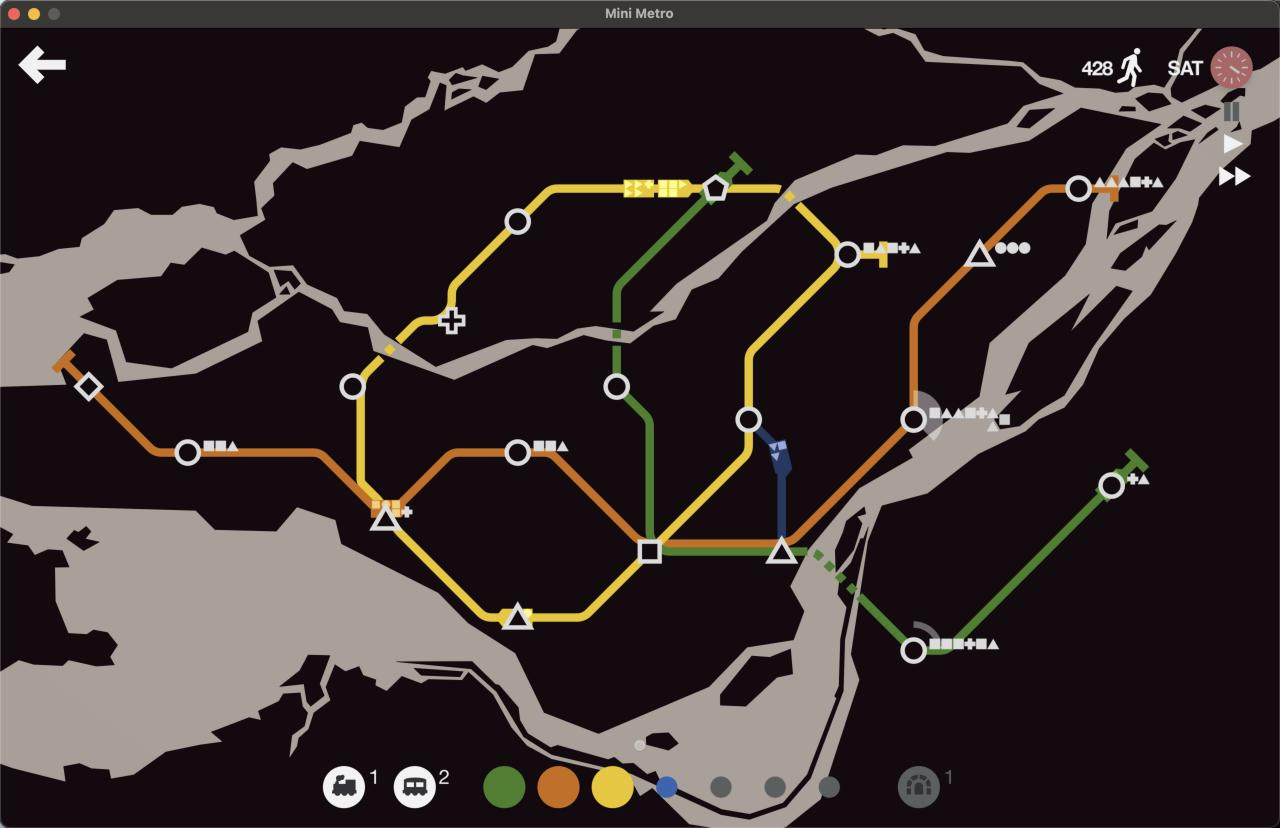DARK GREEN LINE: (927, 489, 1108, 656), (613, 189, 713, 376), (790, 547, 906, 643), (625, 395, 653, 536), (663, 544, 769, 555), (1116, 449, 1147, 483), (718, 152, 752, 182), (857, 556, 862, 578)
ORANGE YELLOW LINE: (787, 427, 905, 543), (199, 448, 378, 505), (533, 452, 641, 540), (909, 260, 973, 405), (400, 449, 503, 505), (95, 393, 174, 457), (987, 185, 1064, 249), (49, 347, 82, 376), (665, 539, 776, 547), (1093, 175, 1119, 202)
YELLOW LINE: (661, 204, 862, 533), (393, 529, 512, 623), (531, 558, 647, 621), (447, 222, 511, 309), (519, 185, 620, 213), (355, 390, 379, 499), (797, 203, 840, 250), (525, 598, 600, 622), (396, 316, 437, 343), (623, 181, 700, 193), (397, 318, 429, 341), (868, 242, 887, 267), (730, 184, 780, 193), (365, 356, 383, 372)
